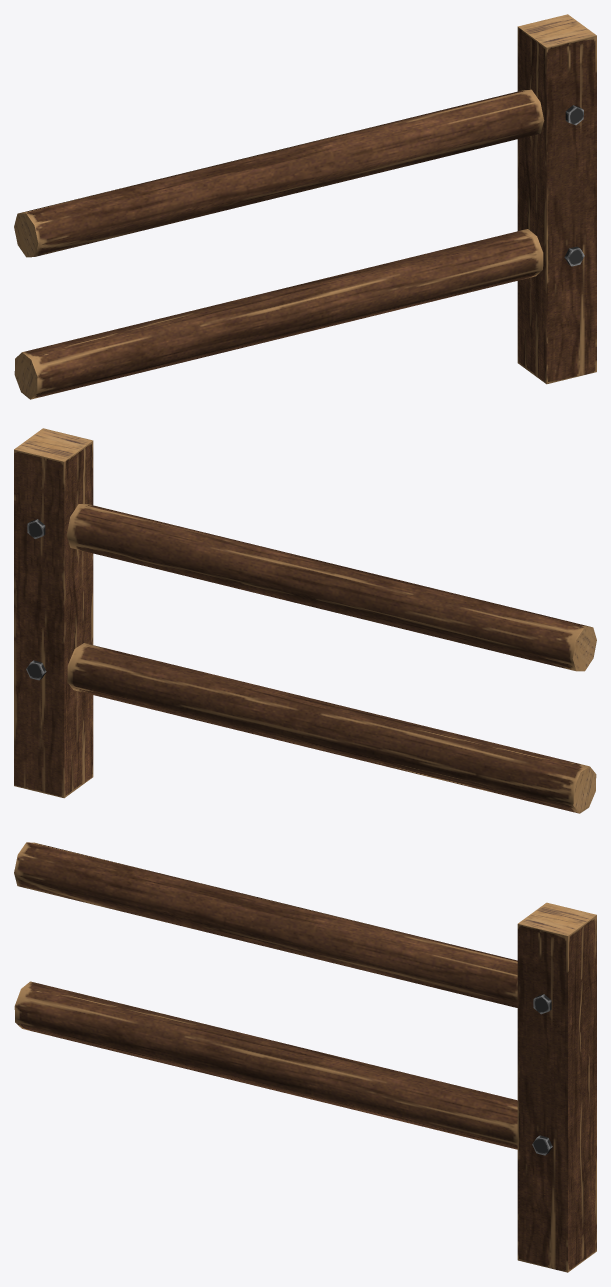
The model's file is WoodenFence2.fbx.
3 views of the same model, one above another, from view 1: azimuth 30°, elevation 25°; view 2: azimuth 150°, elevation 25°; view 3: azimuth 330°, elevation 25° (orthographic).
Visible parts, largest first — view 1: WoodenFence2; view 2: WoodenFence2; view 3: WoodenFence2.
Boxes of the visible parts, x1,y1,x2,y2 form: WoodenFence2: (14, 14, 596, 399); WoodenFence2: (14, 428, 596, 813); WoodenFence2: (14, 842, 596, 1272).
Size of the model in its own units: 183 by 106 by 20.11.
